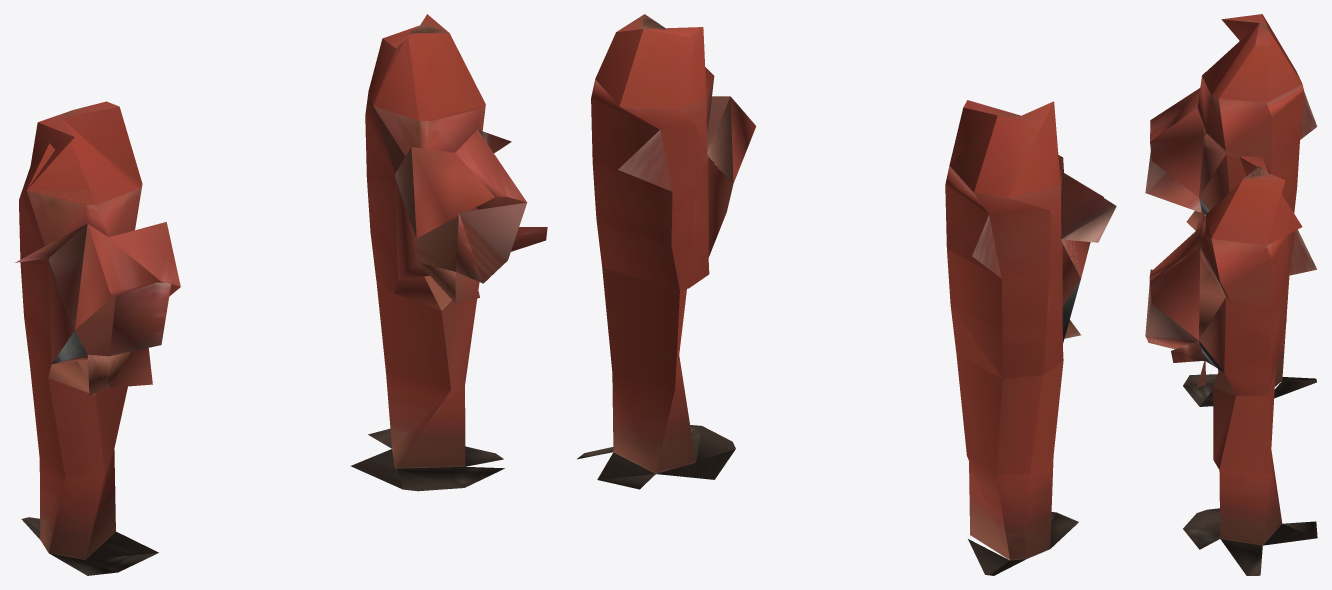
Rendered from hydrant.glb.
3 views of the same model, side by side, from view 1: azimuth 30°, elevation 25°; view 2: azimuth 150°, elevation 25°; view 3: azimuth 270°, elevation 25° (orthographic). The views are drawn at different scales.
Visible parts, largest first — view 1: hydrant; view 2: hydrant; view 3: hydrant.
Part boxes in pixels (x1=…): hydrant: x1=15, y1=14, x2=547, y2=575; hydrant: x1=577, y1=14, x2=1116, y2=575; hydrant: x1=1145, y1=14, x2=1317, y2=575.
Size of the model in its own units: 0.8391 by 0.7135 by 0.2983.
Materials: 1 (1 with a texture image).
